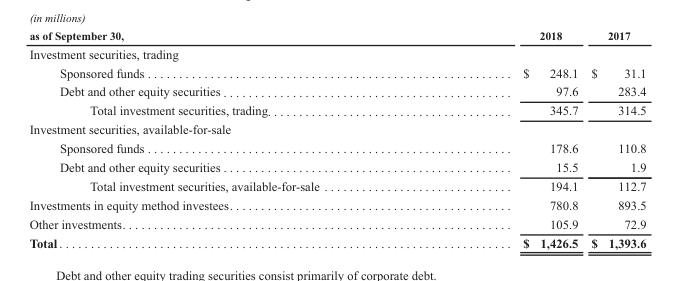table: (28, 28, 645, 250)
table column: (28, 28, 420, 250), (420, 28, 583, 250), (583, 28, 645, 250)
table column header: (28, 28, 645, 44)
table projected row header: (28, 119, 645, 138), (28, 44, 645, 62)
table row: (28, 62, 645, 81), (28, 81, 645, 100), (28, 100, 645, 119), (28, 119, 645, 138), (28, 138, 645, 157), (28, 157, 645, 176), (28, 176, 645, 195), (28, 195, 645, 214), (28, 214, 645, 233), (28, 44, 645, 62), (28, 233, 645, 250), (28, 28, 645, 44)
